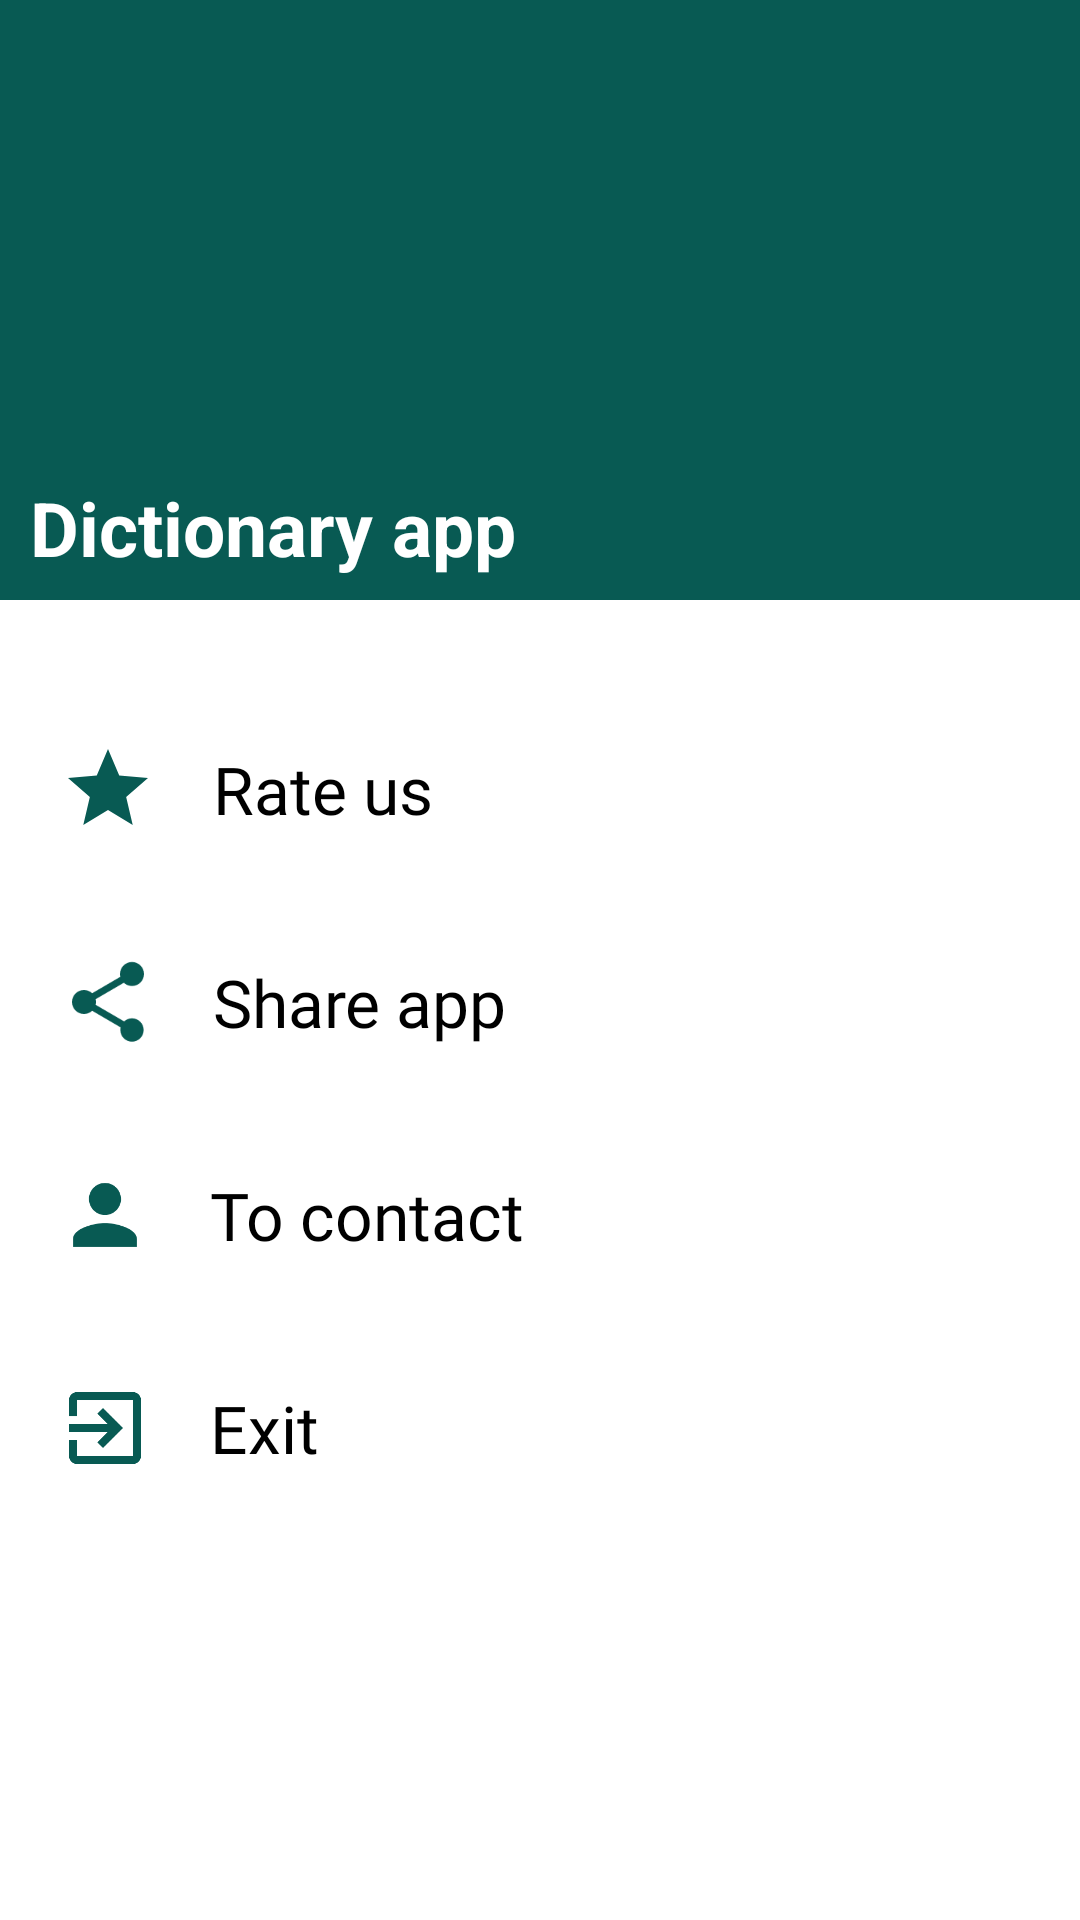

Screen size 1080×1920. Icon name, then its center in pixels as point (x, y):
person: point (105, 1215)
star: point (108, 787)
